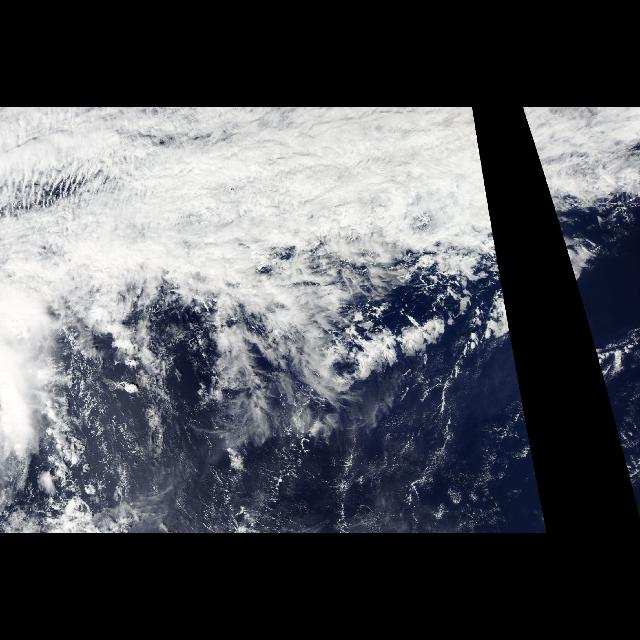Sugar: (200, 376, 544, 530)
